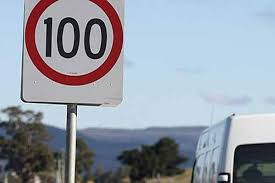Speed_limit_100km: (25, 1, 123, 86)
